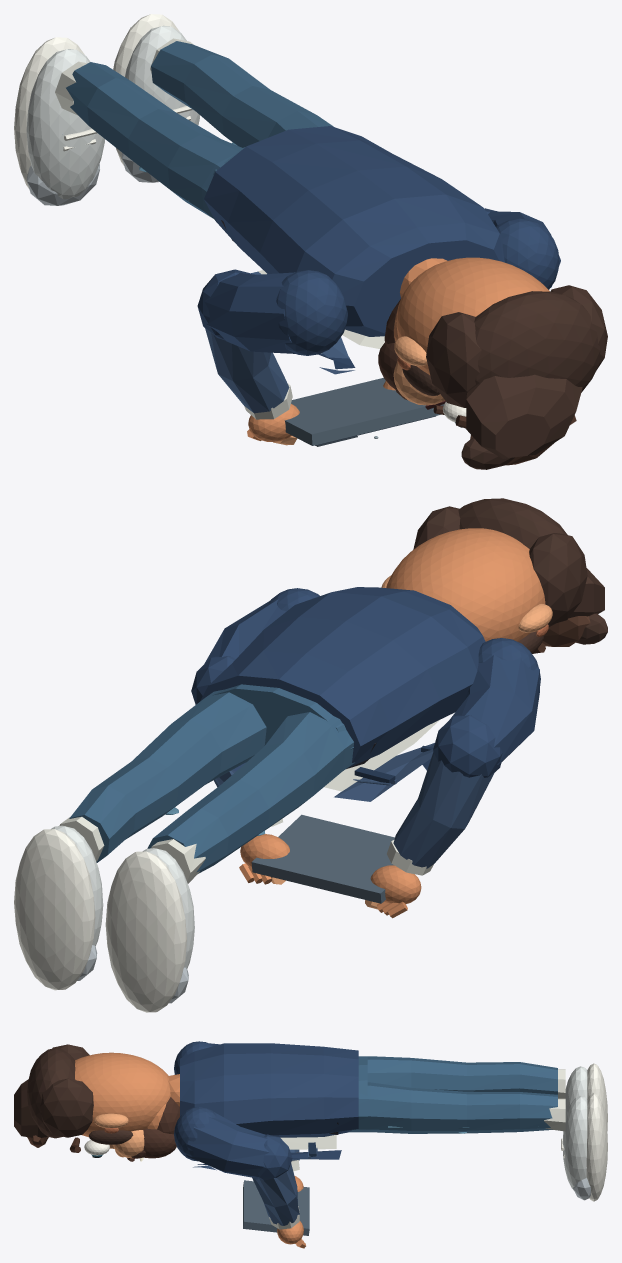
The model's file is BusinessMan.obj.
3 renders of one model, top to bottom at view 1: azimuth 30°, elevation 25°; view 2: azimuth 150°, elevation 25°; view 3: azimuth 270°, elevation 25°, orthographic. The views are drawn at different scales.
Visible parts, largest first — view 1: Business_blazer, L_Denim, Hair_base, R_Denim, Top_quiff, Head_flesh, L_Sneaker, Tablet_body, L_Upper_sleeve, L_Shoulder, L_Hair_side, L_Fore_sleeve (+14 smaller); view 2: Business_blazer, R_Denim, L_Denim, Head_flesh, L_Shoe_sole, R_Shoe_sole, Tablet_body, L_Fore_sleeve, L_Upper_sleeve, L_Hair_side, L_Elbow, Hair_base (+16 smaller); view 3: Business_blazer, R_Denim, L_Denim, Head_flesh, R_Upper_sleeve, R_Hair_side, Hair_base, R_Shoe_sole, R_Sneaker, R_Fore_sleeve, Tablet_body, R_Shoulder (+16 smaller).
Boxes of the visible parts, x1,y1,x2,y2 form: Business_blazer: [204, 126, 504, 336]; L_Denim: [66, 62, 242, 221]; Hair_base: [474, 291, 600, 392]; R_Denim: [151, 41, 333, 147]; Top_quiff: [466, 374, 582, 458]; Head_flesh: [396, 257, 549, 375]; L_Sneaker: [26, 49, 105, 199]; Tablet_body: [284, 377, 443, 445]; L_Upper_sleeve: [204, 272, 295, 353]; L_Shoulder: [276, 270, 347, 355]; L_Hair_side: [426, 312, 481, 407]; L_Fore_sleeve: [205, 328, 289, 413]; Business_blazer: [200, 587, 485, 767]; R_Denim: [69, 689, 266, 862]; L_Denim: [147, 712, 354, 873]; Head_flesh: [386, 528, 545, 641]; L_Shoe_sole: [105, 851, 186, 1012]; R_Shoe_sole: [14, 829, 95, 990]; Tablet_body: [251, 814, 394, 903]; L_Fore_sleeve: [393, 752, 495, 868]; L_Upper_sleeve: [449, 655, 539, 765]; L_Hair_side: [529, 533, 587, 624]; L_Elbow: [433, 715, 502, 777]; Hair_base: [458, 498, 567, 548]; Business_blazer: [180, 1043, 358, 1137]; R_Denim: [348, 1082, 557, 1133]; L_Denim: [359, 1056, 557, 1094]; Head_flesh: [75, 1052, 170, 1137]; R_Upper_sleeve: [186, 1112, 269, 1177]; R_Hair_side: [40, 1078, 93, 1137]; Hair_base: [27, 1048, 75, 1138]; R_Shoe_sole: [586, 1093, 607, 1201]; R_Sneaker: [562, 1095, 587, 1190]; R_Fore_sleeve: [252, 1163, 299, 1225]; Tablet_body: [243, 1180, 309, 1235]; R_Shoulder: [174, 1107, 216, 1161].
Bounding box in the file's own units: 0.809 × 0.6563 × 2.03.
